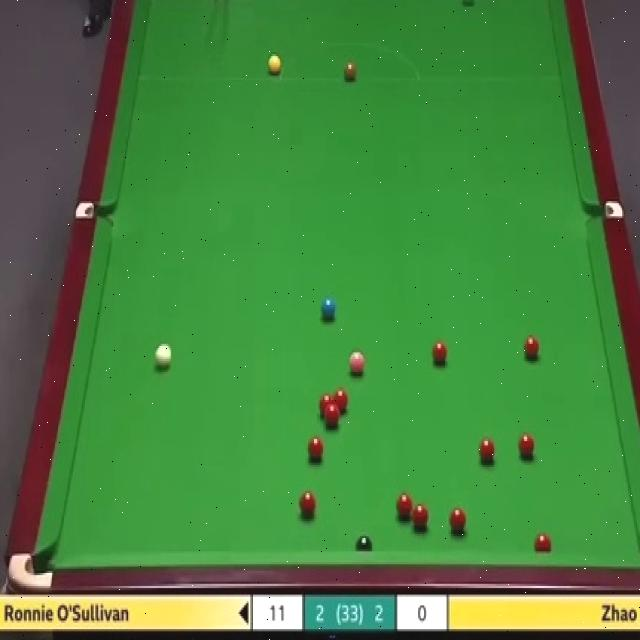blue-ball: (319, 296, 338, 319)
brown-ball: (344, 58, 356, 80)
green-ball: (460, 0, 475, 6)
pink-ball: (348, 351, 366, 378)
red-ball: (448, 508, 468, 537), (478, 437, 498, 465), (412, 500, 429, 532), (298, 492, 318, 518), (304, 438, 325, 462), (431, 338, 448, 367), (519, 432, 537, 459), (395, 494, 413, 520), (318, 393, 334, 420), (523, 335, 539, 362), (334, 389, 348, 414), (534, 532, 552, 550), (325, 408, 341, 428)
white-ball: (154, 342, 173, 370)
yellow-ball: (267, 57, 280, 74)
